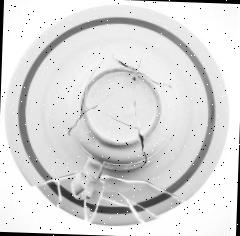glass: (5, 12, 228, 230)
